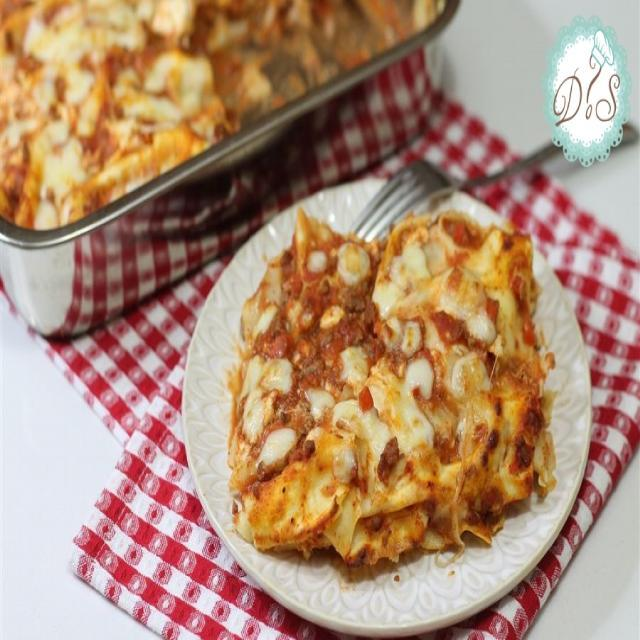Pasta al ragu: (220, 204, 574, 538)
